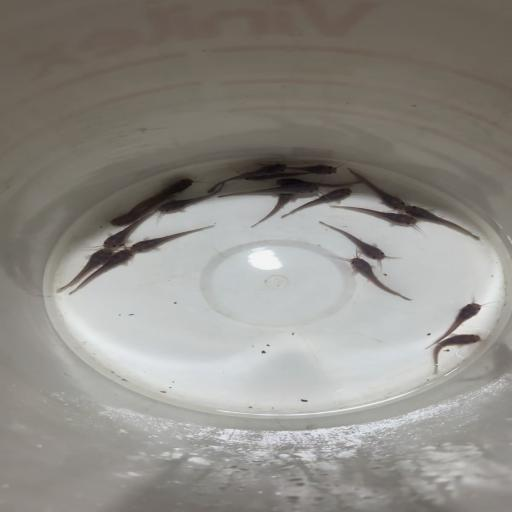lele: (317, 218, 397, 265), (339, 254, 415, 302), (420, 297, 490, 349), (68, 249, 137, 297), (404, 203, 482, 241), (345, 165, 409, 211), (280, 186, 354, 224), (202, 162, 288, 194), (131, 224, 216, 256), (50, 249, 111, 293), (326, 203, 420, 230), (426, 333, 484, 376), (156, 182, 229, 215), (100, 208, 159, 248), (214, 182, 320, 200), (248, 194, 296, 230), (108, 198, 168, 226), (276, 175, 362, 190), (243, 171, 313, 186), (288, 162, 346, 179), (156, 176, 198, 196)
